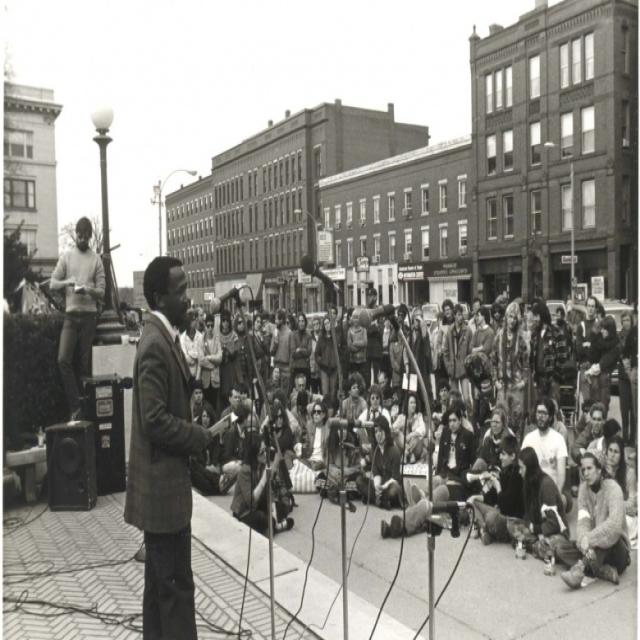body: (119, 252, 240, 639), (48, 214, 108, 422), (554, 447, 634, 592), (376, 462, 506, 542), (189, 299, 389, 347), (229, 430, 295, 539), (411, 407, 478, 507), (466, 432, 524, 545), (237, 379, 410, 415), (518, 394, 570, 513), (489, 300, 529, 450), (354, 414, 409, 512), (516, 443, 570, 540), (528, 299, 568, 425), (448, 392, 592, 423), (469, 406, 517, 496), (441, 302, 474, 424), (401, 304, 434, 423), (574, 292, 606, 411), (283, 400, 333, 475), (587, 314, 622, 420), (552, 303, 608, 364), (432, 292, 512, 334), (333, 374, 371, 456), (614, 309, 636, 445), (189, 444, 243, 498), (196, 311, 224, 415), (604, 434, 637, 520), (390, 392, 427, 466), (248, 312, 272, 422), (268, 306, 296, 400), (215, 308, 240, 410), (286, 310, 314, 401), (463, 350, 493, 430), (314, 314, 342, 399), (570, 402, 607, 466), (364, 287, 386, 394), (621, 318, 638, 446), (260, 400, 296, 460), (333, 304, 355, 396), (230, 310, 253, 396), (290, 389, 318, 455), (195, 401, 222, 469), (346, 308, 368, 390), (179, 305, 203, 378), (467, 296, 482, 408), (584, 415, 624, 454), (374, 369, 401, 425), (355, 383, 392, 423), (468, 304, 496, 356), (187, 379, 218, 425), (308, 314, 324, 396), (430, 379, 450, 433), (512, 296, 535, 342), (327, 304, 343, 366), (220, 384, 242, 418), (396, 304, 411, 340), (489, 302, 505, 334), (307, 346, 322, 379), (268, 363, 283, 389)
